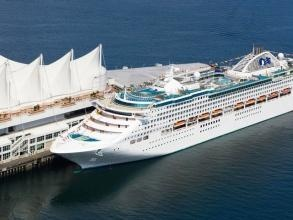youlun: (48, 31, 293, 176)
